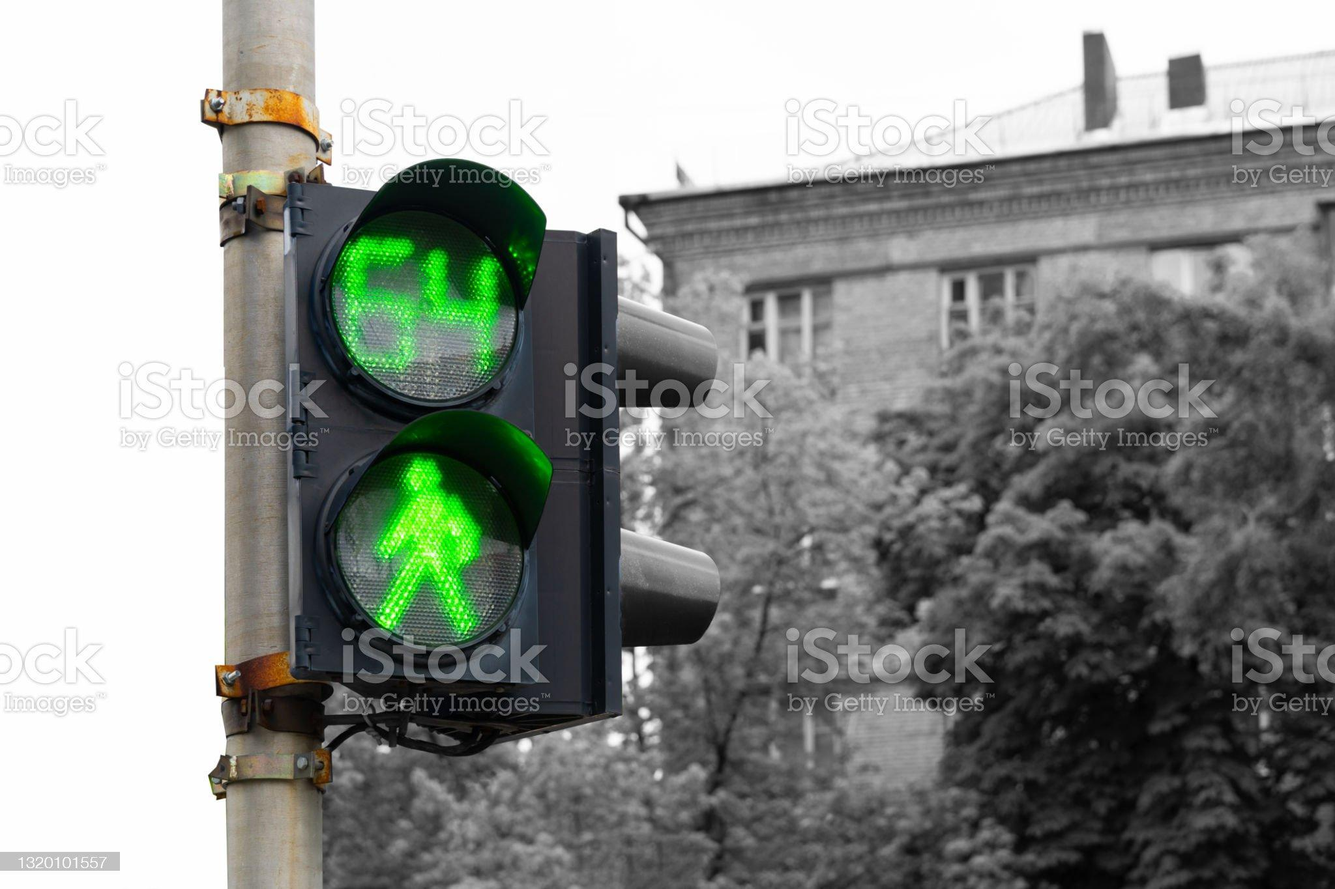green: (293, 163, 595, 706)
